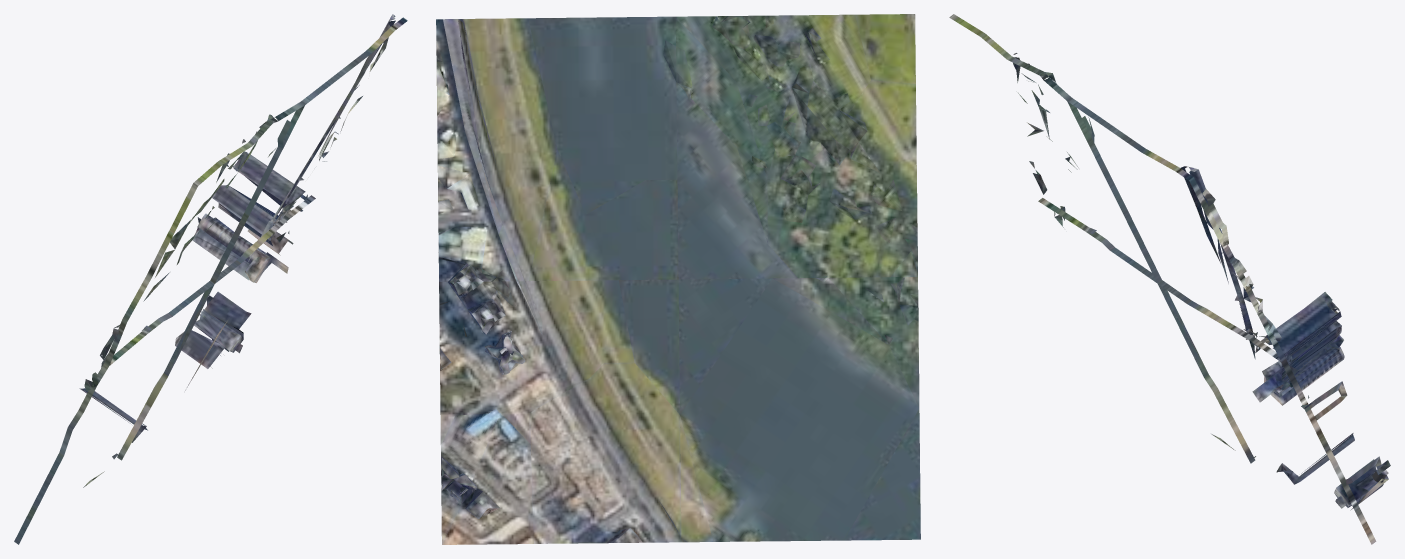
The picture shows the model from 3 angles, left to right: view 1: azimuth 30°, elevation 25°; view 2: azimuth 150°, elevation 25°; view 3: azimuth 270°, elevation 25°; orthographic projection. The views are drawn at different scales.
Bounding box in the file's own units: 609 × 562 × 536.
Materials: 1 (1 with a texture image).
